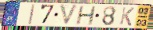7: (40, 4, 56, 26)
8: (101, 6, 117, 27)
H: (75, 5, 97, 26)
I: (28, 4, 36, 25)
K: (118, 7, 136, 27)
V: (59, 4, 80, 27)
